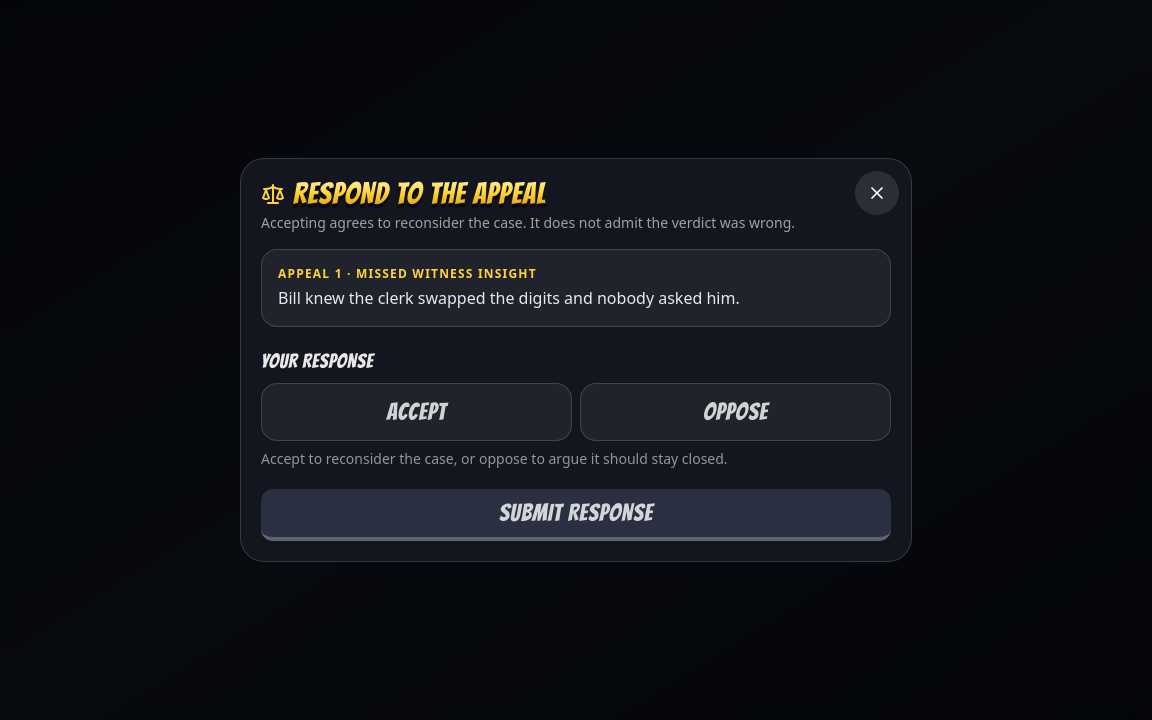
Test: AppealResponseForm › shows an error and stays open when sending fails
The width and height of the screenshot is (1152, 720).
Click the button "ACCEPT" at (416, 412), box [261, 383, 572, 441]
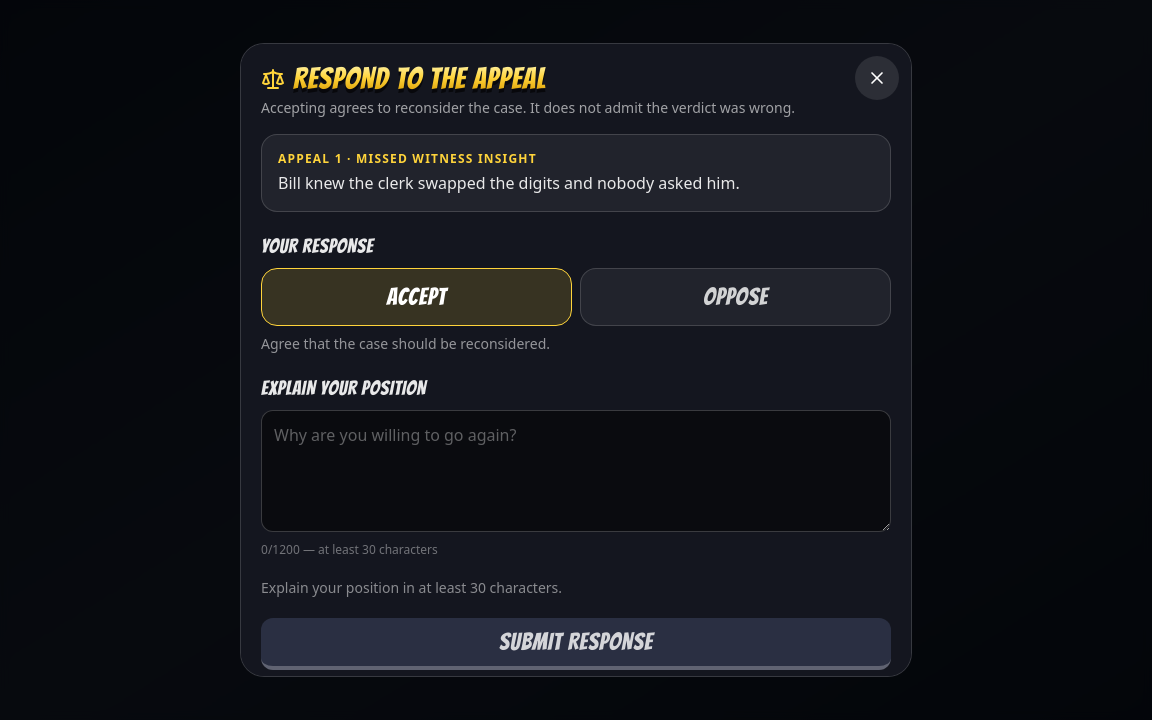
Type "The jury heard the route sheet already, so nothing was missed here." into the text box labelled "EXPLAIN YOUR POSITION" at (576, 471), box [261, 410, 891, 532]
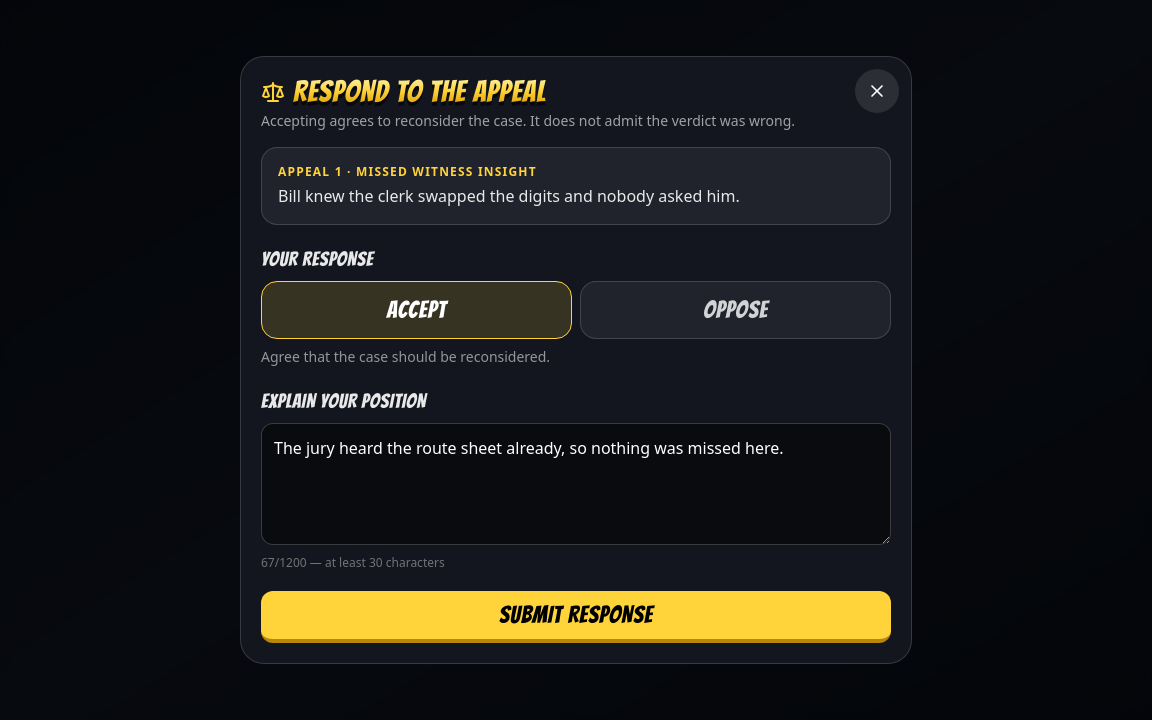
Click the button "SUBMIT RESPONSE" at (576, 617), box [261, 591, 891, 643]
(page scrolled)
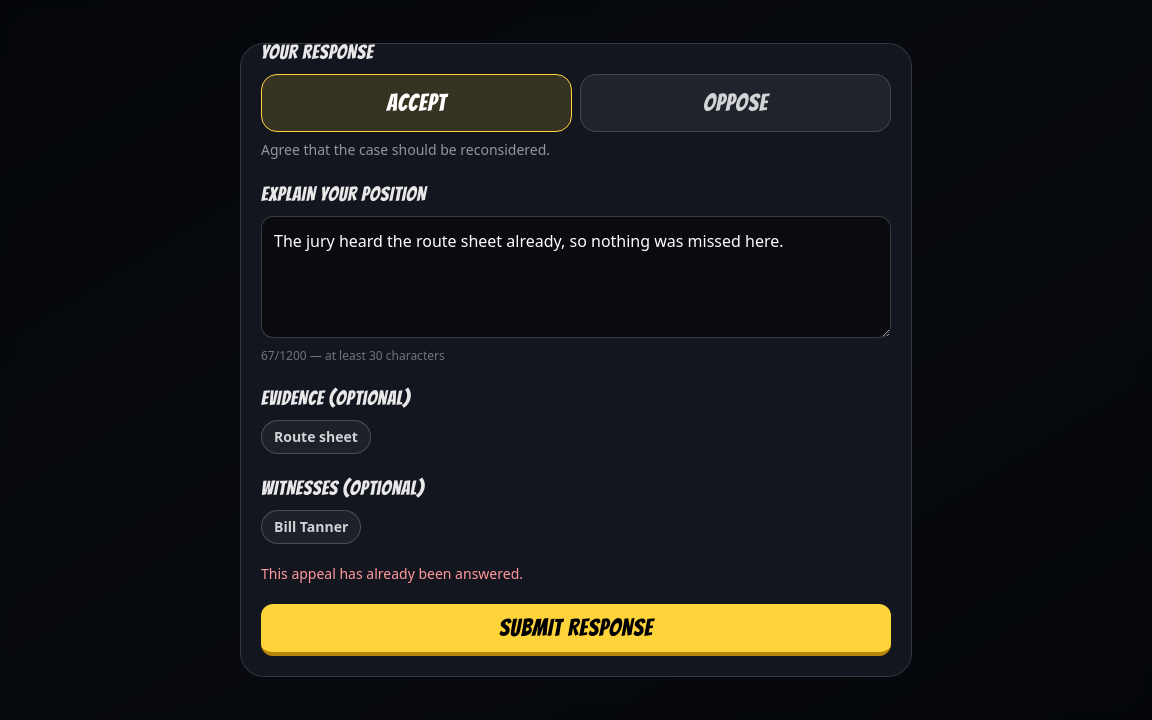
Check: the text "This appeal has already been answered." is shown, box [261, 564, 523, 583]
